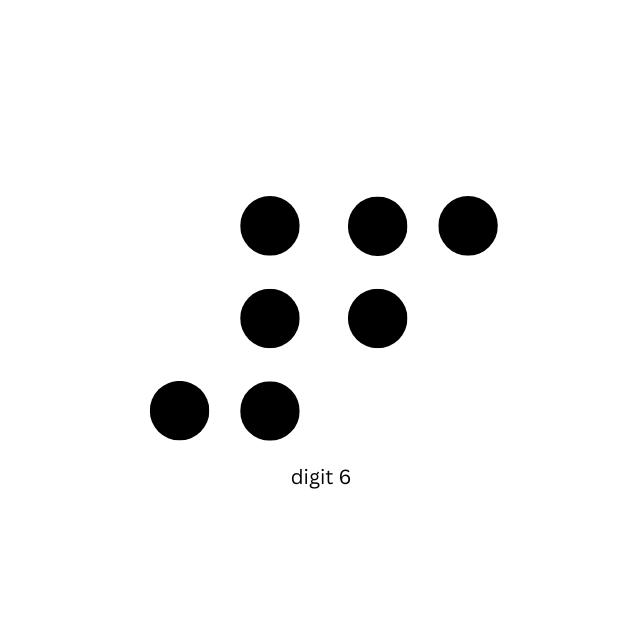digit_6: (346, 194, 500, 442)
number_sign: (149, 194, 300, 442)
